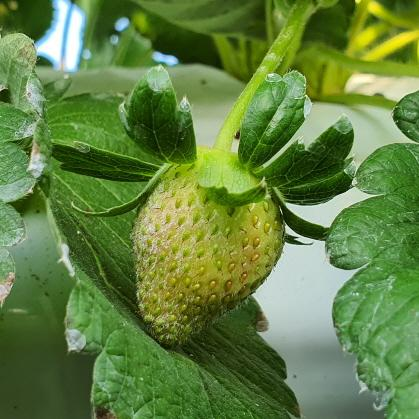Powdery Mildew Fruit: (131, 179, 231, 346)
